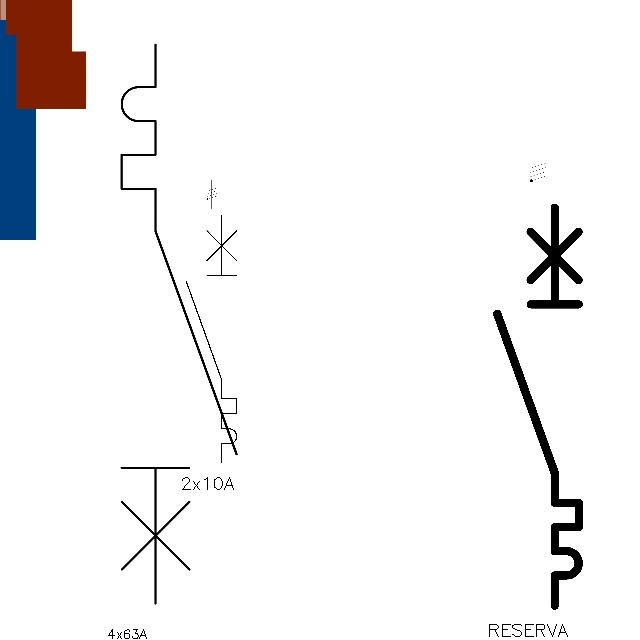interruptor_termomagnetico: (107, 30, 251, 618), (487, 197, 589, 616), (180, 209, 243, 468)
